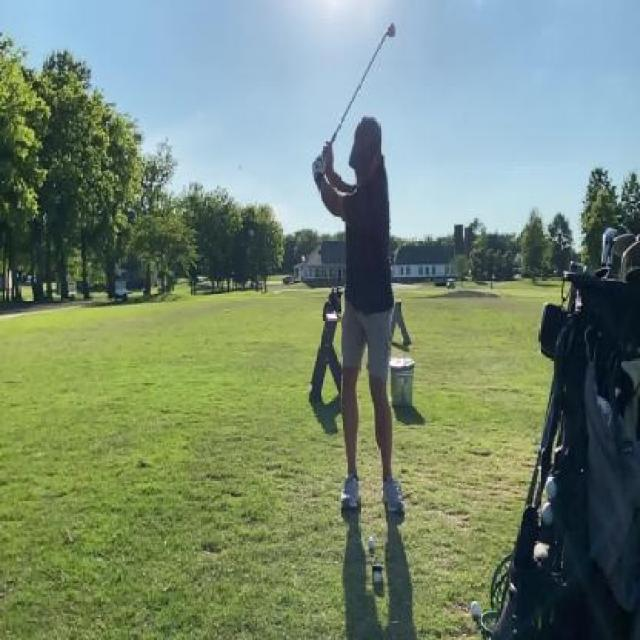club head: (381, 21, 396, 39)
